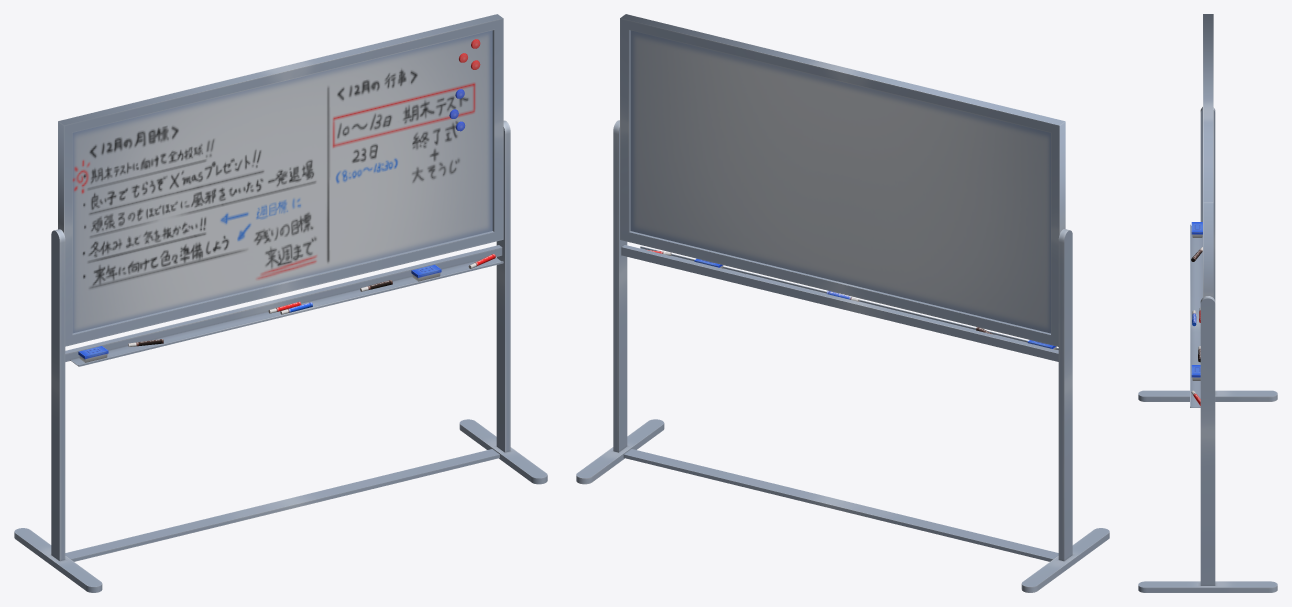
The model's file is Whiteboard_01_01.fbx.
3 views of the same model, side by side, from view 1: azimuth 30°, elevation 25°; view 2: azimuth 150°, elevation 25°; view 3: azimuth 270°, elevation 25° (orthographic). The views are drawn at different scales.
Visible parts, largest first — view 1: whiteboard_02, whiteboard_01; view 2: whiteboard_02, whiteboard_01; view 3: whiteboard_01, whiteboard_02.
Boxes of the visible parts, bbox=[...] form: whiteboard_02: bbox=[58, 14, 503, 346]; whiteboard_01: bbox=[14, 120, 547, 592]; whiteboard_02: bbox=[620, 14, 1065, 346]; whiteboard_01: bbox=[576, 120, 1109, 592]; whiteboard_01: bbox=[1138, 107, 1277, 592]; whiteboard_02: bbox=[1203, 14, 1213, 297].
Bounding box in the file's own units: 200 × 182 × 59.8.
